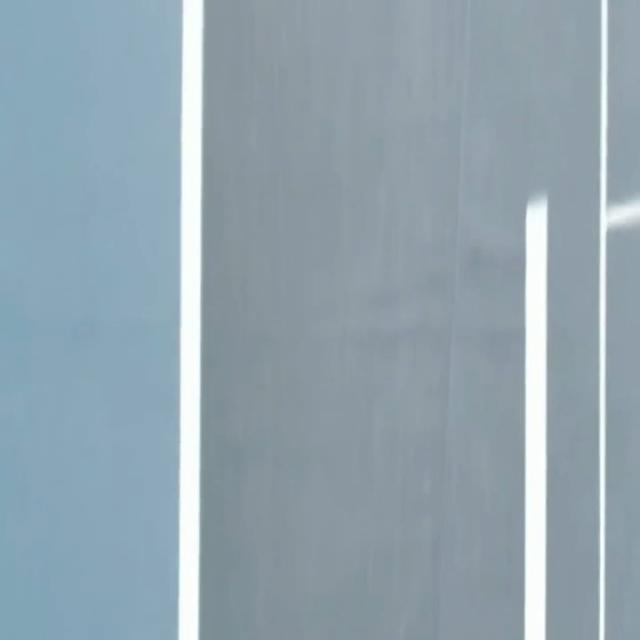center: (524, 196, 546, 639)
left: (178, 0, 203, 639)
